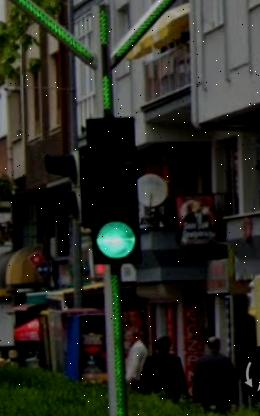greenlight: (87, 118, 147, 261)
